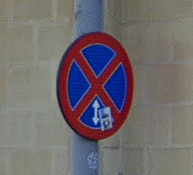oprirea_interzisa: (57, 31, 134, 142)
